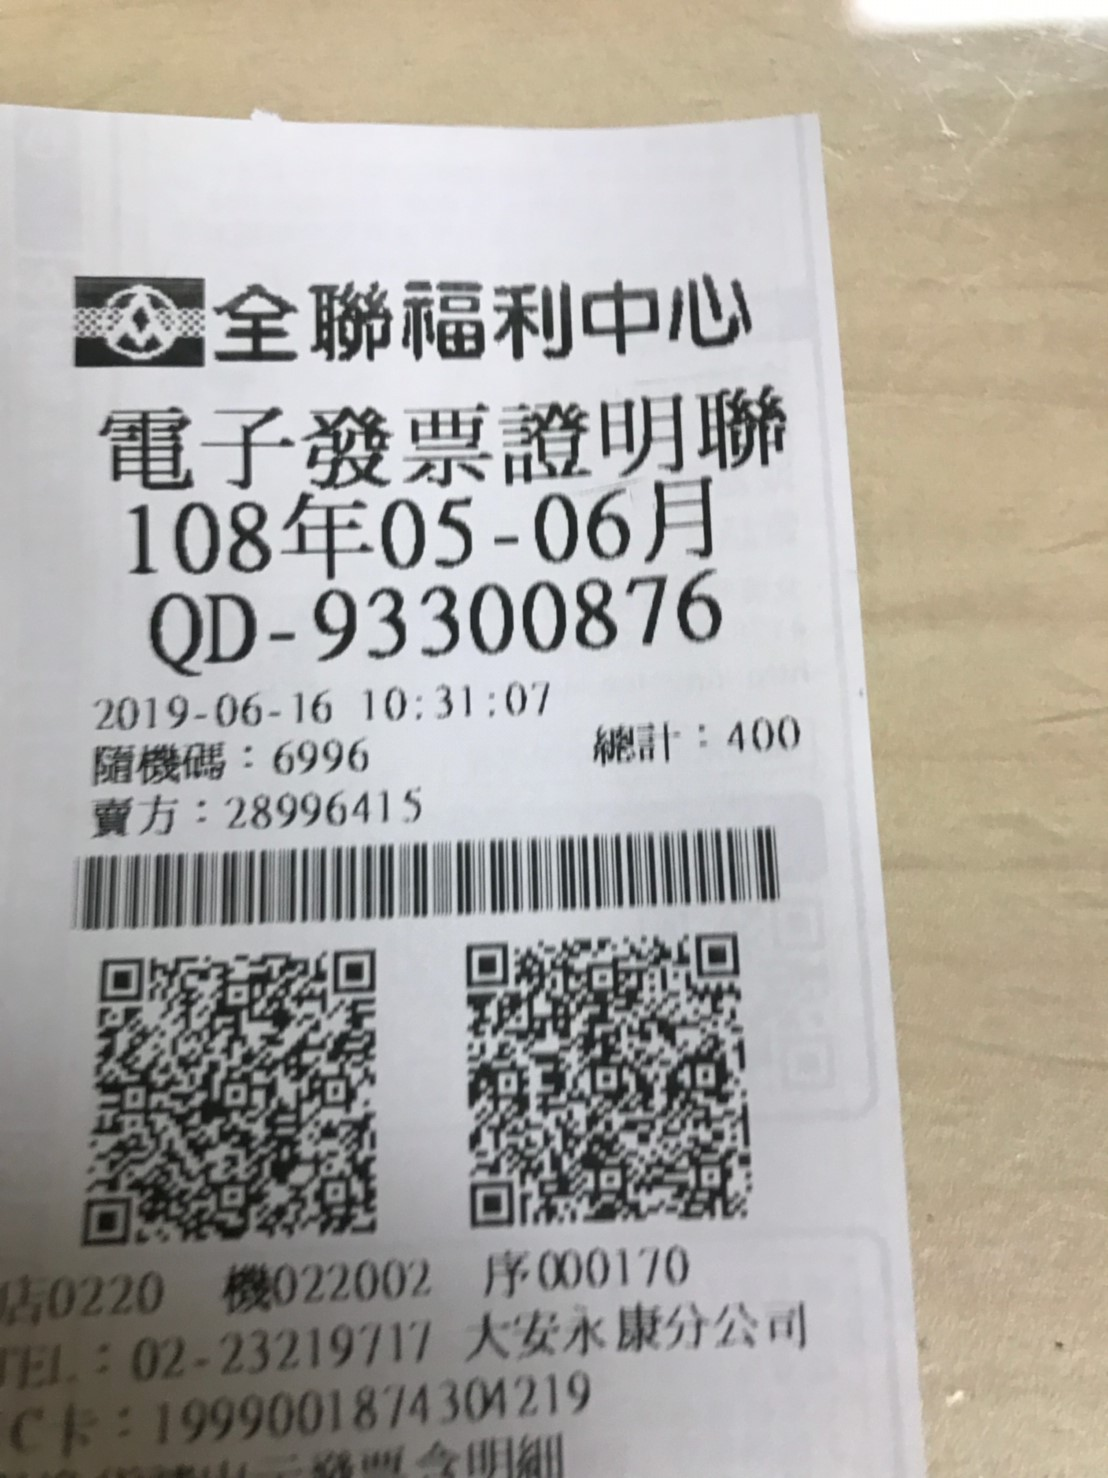Date_New: (121, 469, 719, 574)
Number_New: (312, 562, 725, 660)
